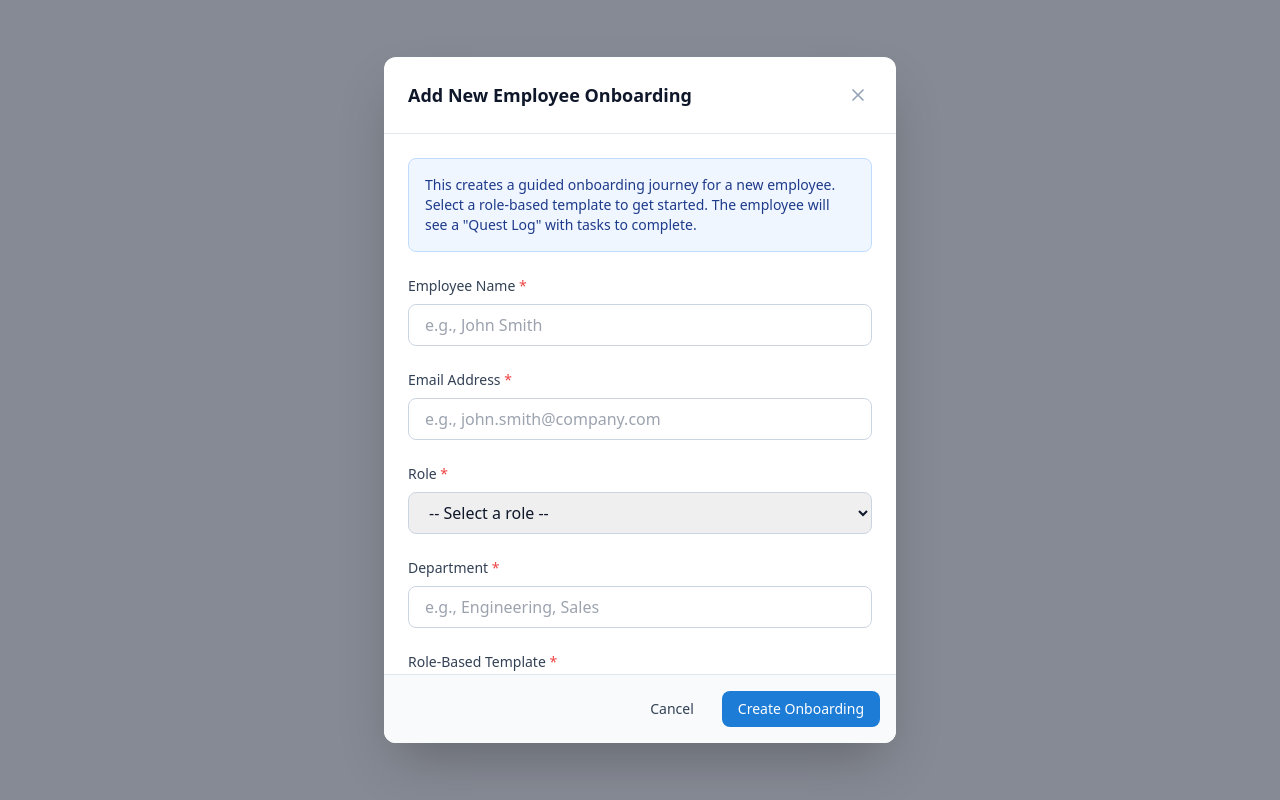
Scenario: CreateOnboardingModal Component › should show validation error for missing email
In the field labelled "Employee Name *": (640, 325) x1=408 y1=304 x2=872 y2=346, type "John Doe"
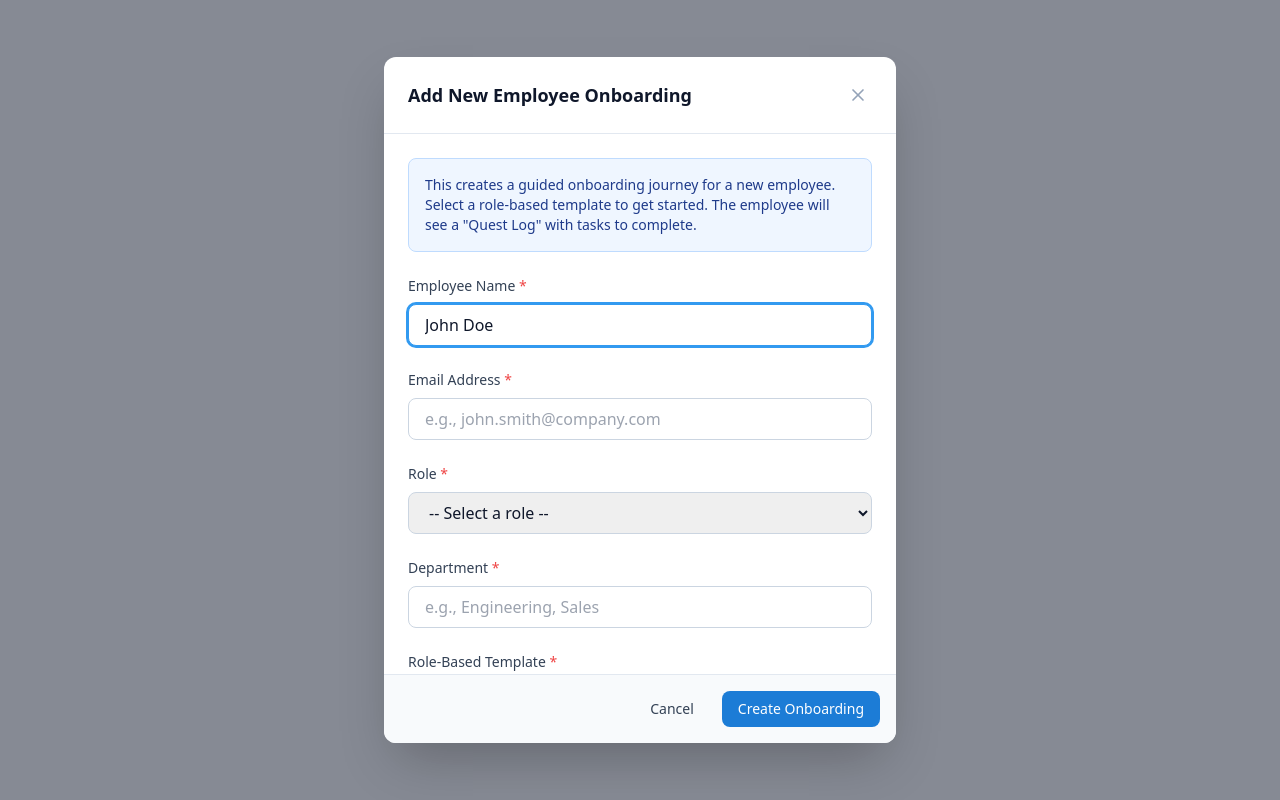
Click the button "Create Onboarding": (801, 709) x1=722 y1=691 x2=880 y2=727
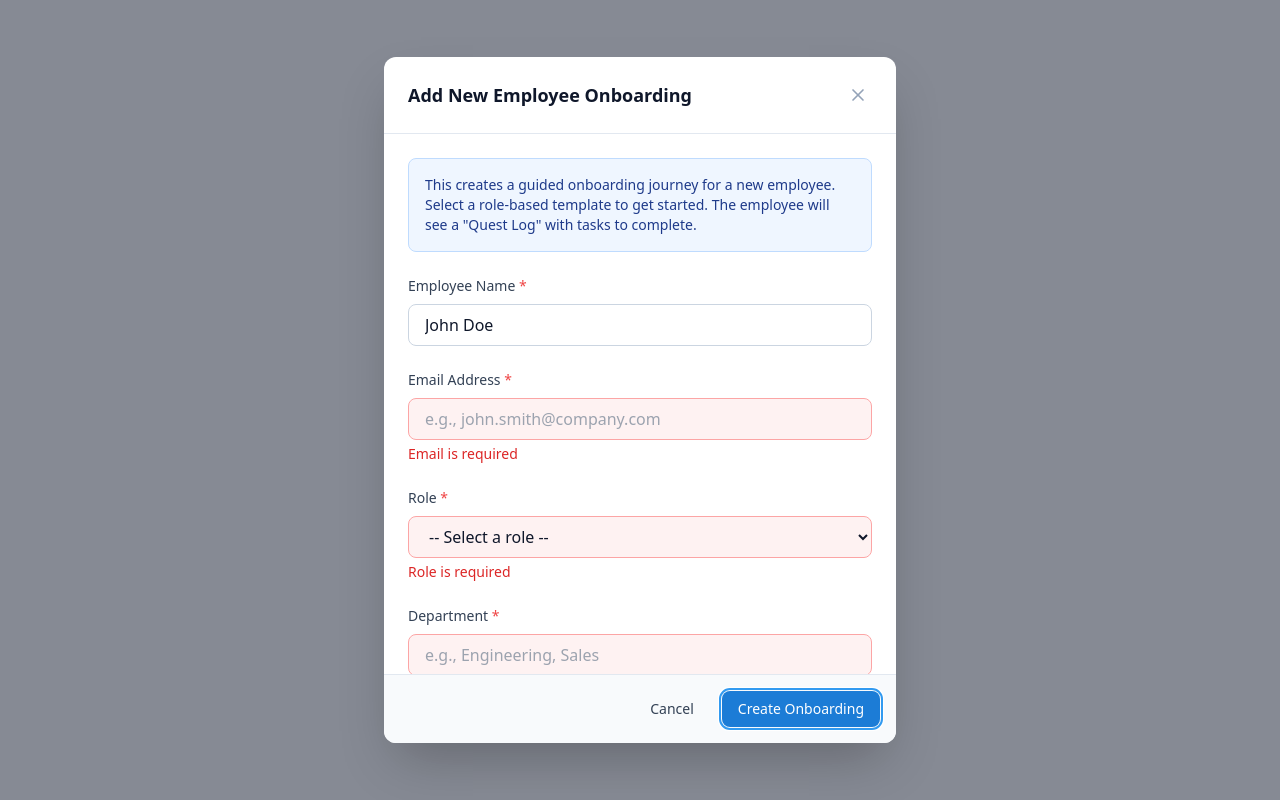
Now the text "Email is required" is shown, box x1=408 y1=444 x2=518 y2=463
